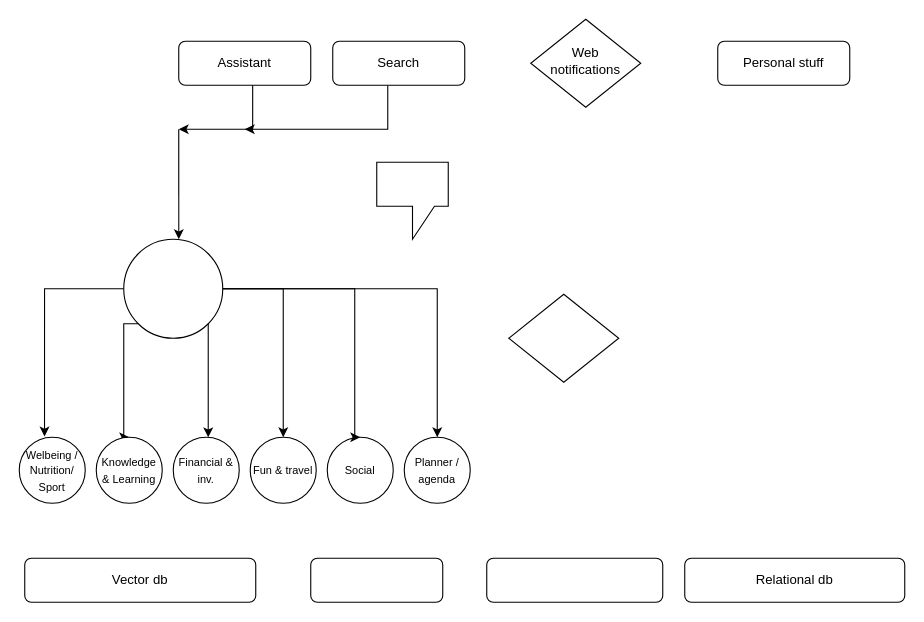
Some shapes in this 924 by 622 pixel diagram are drawn without their labels. The shapes that lost their labels are listed below. From the top down, each one's centre as x and y in pixels, then its label:
At point (412, 200): "Intent, enities".
At point (173, 288): "ORCHESTRATOR".
At point (574, 579): "Search db".
